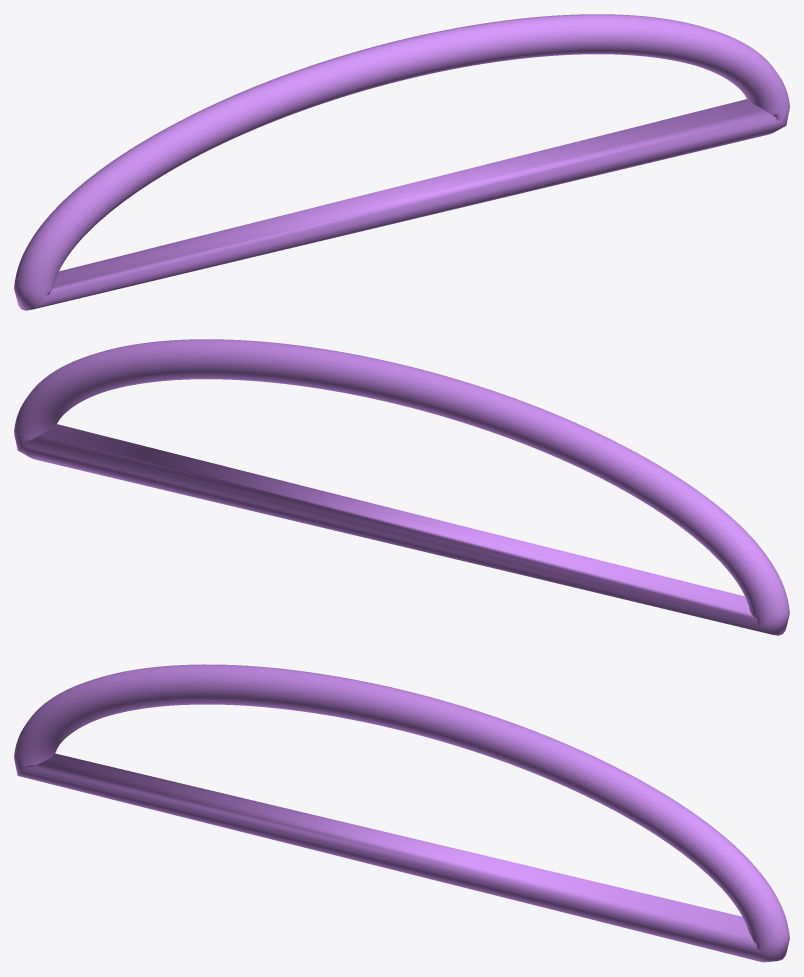
Rendered from wide-canopy-DGWrGZDM.glb.
3 views of the same model, one above another, from view 1: azimuth 30°, elevation 25°; view 2: azimuth 150°, elevation 25°; view 3: azimuth 330°, elevation 25° (orthographic).
Parts seen in each view (by area): view 1: R3D_wide-canopy_Body_0; view 2: R3D_wide-canopy_Body_0; view 3: R3D_wide-canopy_Body_0.
Boxes of the visible parts, bbox=[...] form: R3D_wide-canopy_Body_0: bbox=[14, 14, 789, 310]; R3D_wide-canopy_Body_0: bbox=[14, 339, 789, 635]; R3D_wide-canopy_Body_0: bbox=[14, 664, 789, 962].
Size of the model in its own units: 5.34 by 1.19 by 0.24.
